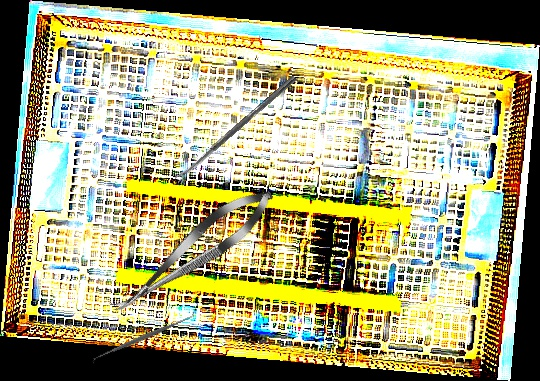Micro Scissor: (102, 177, 283, 327)
Spatula Surgical: (89, 309, 199, 365)
Surgical Spoon: (173, 74, 298, 183)
